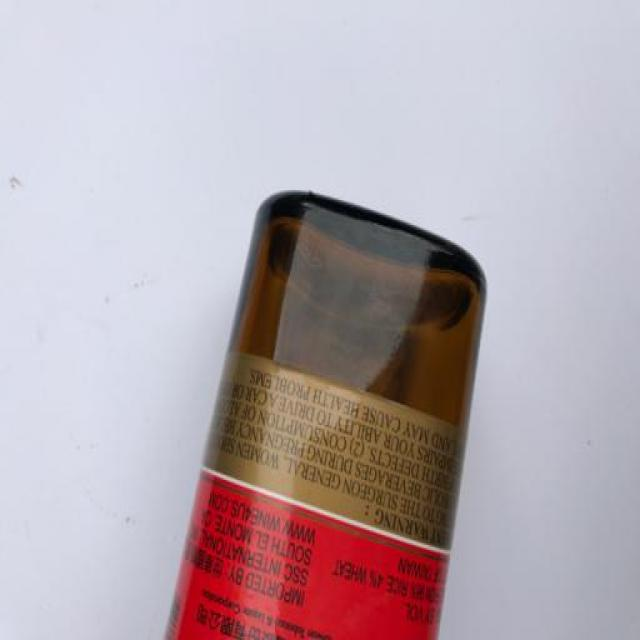glass: (146, 166, 582, 640)
